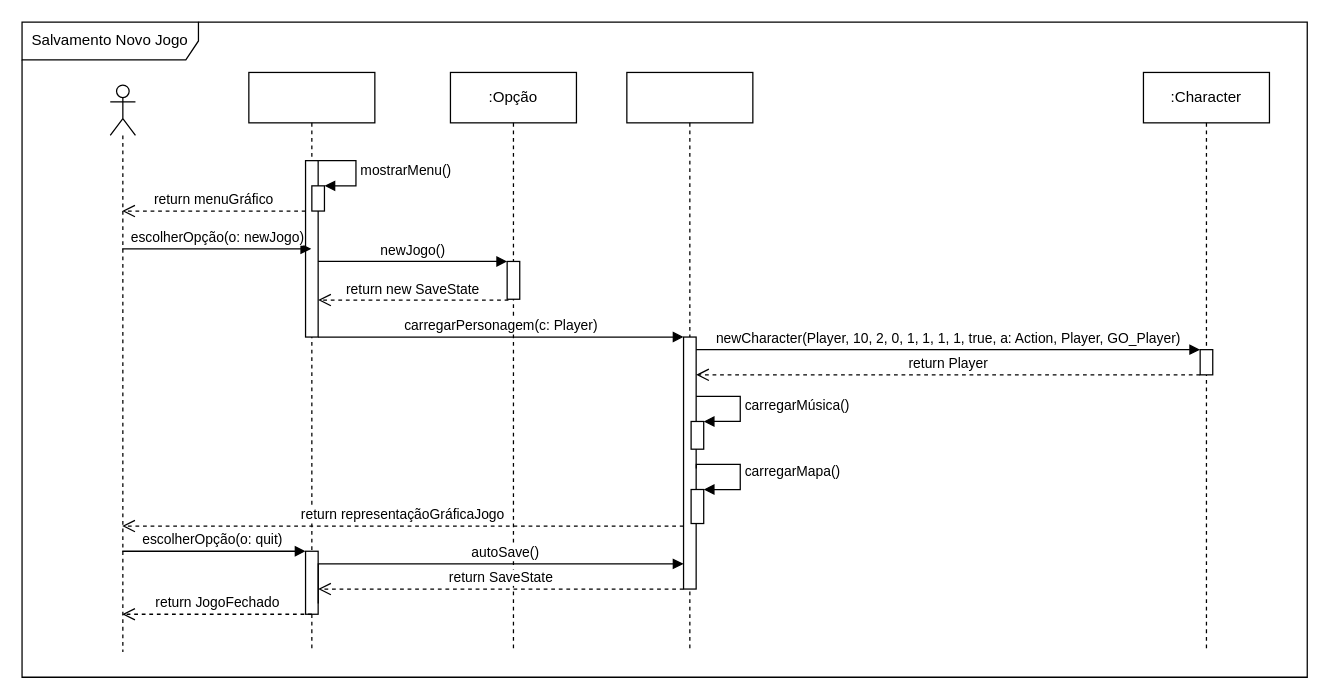
This 1329x699 diagram has some shape labels left out. The shapes that lost their labels are listed below. From the top down, each one's centre as x and y in pixels, then its label:
At (311,361): ":MenuScreen".
At (689,361): ":Undertale 2".
